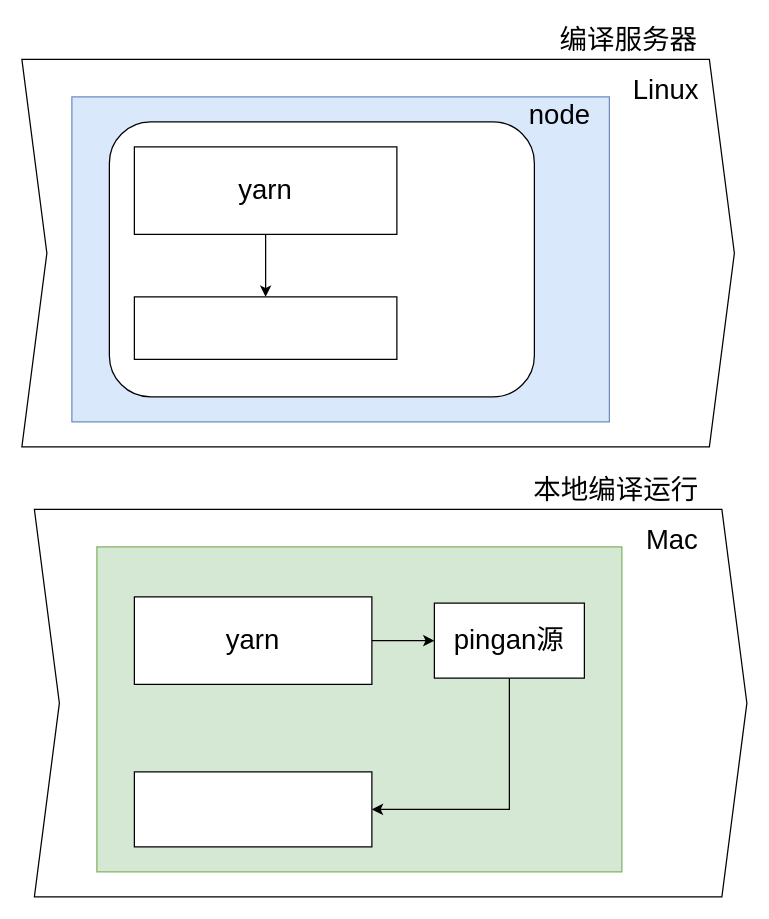
The diagram is 769 pixels wide and 919 high, and some of its shapes have lost their labels. Here are the shapes that lost their labels. From the top down, the box of each, then its label:
(133, 296, 397, 359): node_modules
(133, 771, 372, 847): node_modules（缓存）
